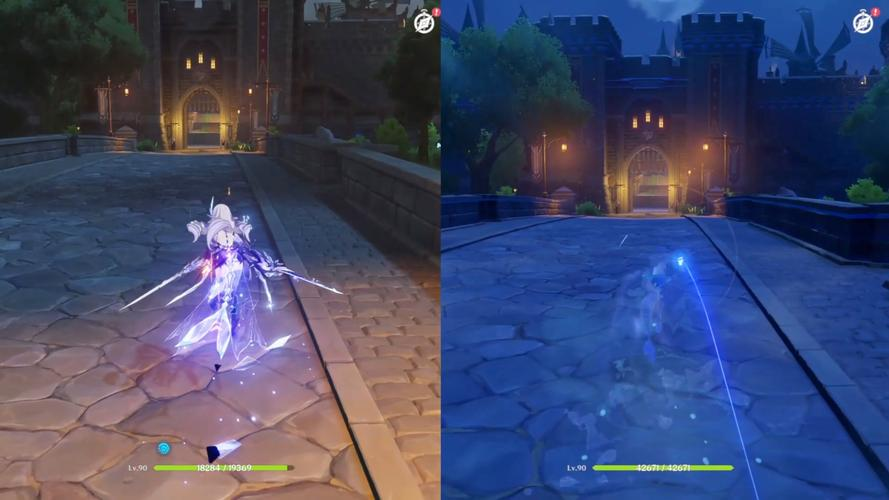夜兰: (614, 248, 719, 404)
